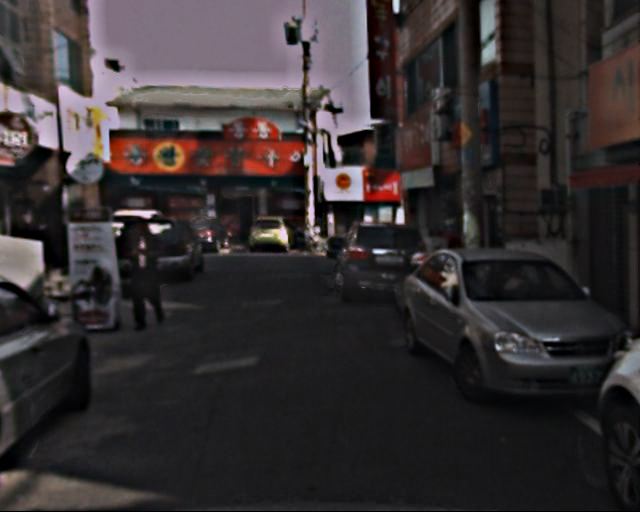person: (120, 213, 175, 335)
